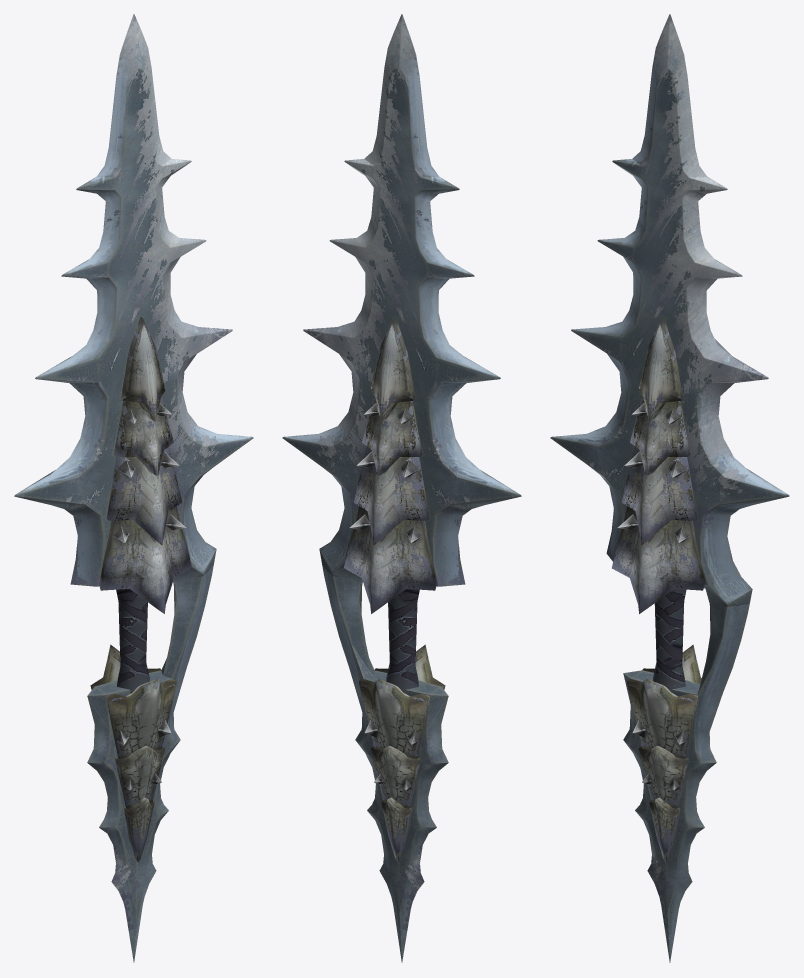
File: one033.obj
3 renders of one model, left to right at view 1: azimuth 30°, elevation 25°; view 2: azimuth 150°, elevation 25°; view 3: azimuth 330°, elevation 25°, orthographic.
Visible parts, largest first — view 1: one033_000_LOD_1, one033_002_LOD_1, one033_001_LOD_1; view 2: one033_000_LOD_1, one033_002_LOD_1, one033_001_LOD_1; view 3: one033_000_LOD_1, one033_002_LOD_1, one033_001_LOD_1.
Boxes of the visible parts, <box> form: one033_000_LOD_1: <box>14,14,253,962</box>; one033_002_LOD_1: <box>90,316,191,862</box>; one033_001_LOD_1: <box>113,403,186,790</box>; one033_000_LOD_1: <box>282,14,521,962</box>; one033_002_LOD_1: <box>344,316,445,862</box>; one033_001_LOD_1: <box>349,403,422,790</box>; one033_000_LOD_1: <box>550,14,789,962</box>; one033_002_LOD_1: <box>612,316,705,862</box>; one033_001_LOD_1: <box>617,403,690,790</box>.
Size of the model in its own units: 40.98 by 155 by 18.25.
